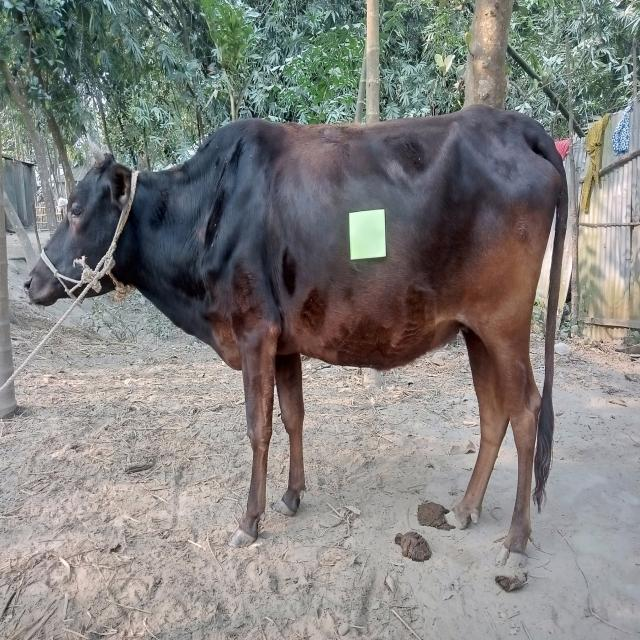badan_sapi: (207, 119, 548, 378)
sapi: (18, 100, 576, 572)
